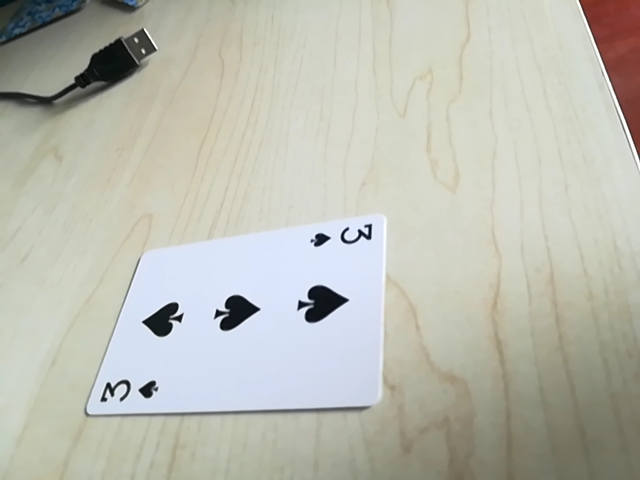ht 3: (93, 372, 164, 412), (307, 220, 377, 255)
